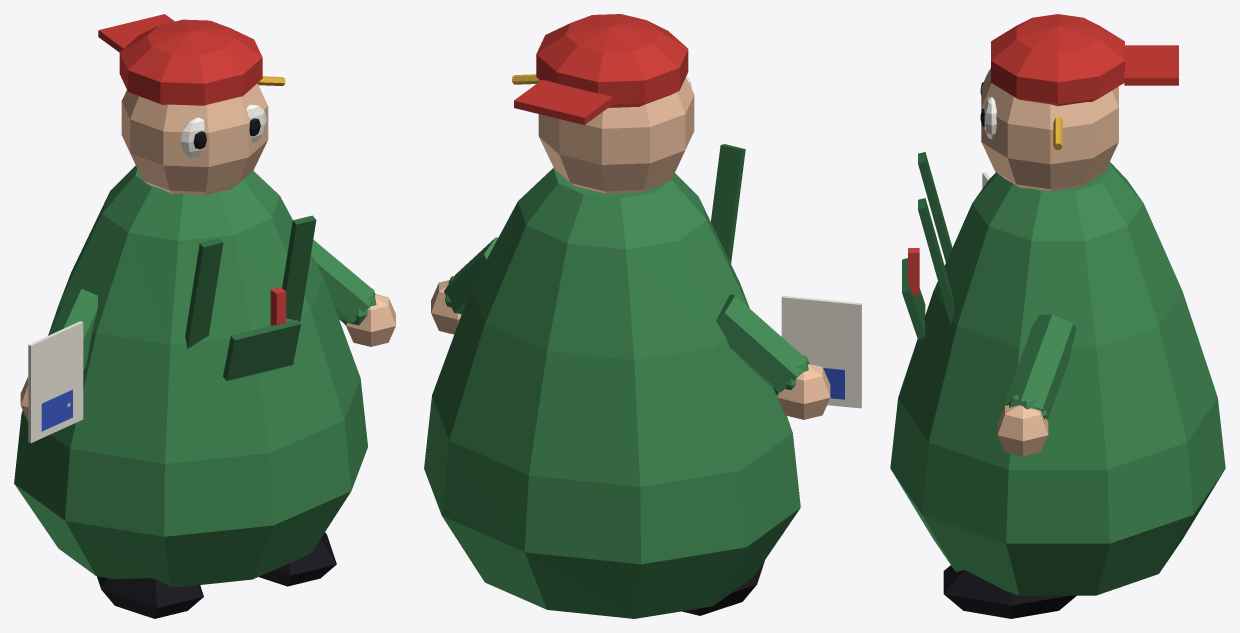
The model's file is npc_tablita.glb.
3 renders of one model, left to right at view 1: azimuth 30°, elevation 25°; view 2: azimuth 150°, elevation 25°; view 3: azimuth 270°, elevation 25°, orthographic. The views are drawn at different scales.
Parts seen in each view (by area): view 1: body_tablita_overalls, cap_tablita_cap, head_skin_rosado, manual_tablita_manual, strap_tablita_strap (×2), legs_black, arms_tablita_overalls, pocket_tablita_pocket, arms_skin_rosado, face_white, manual_tablita_manual_ink, screwdriver_tablita_handle; view 2: body_tablita_overalls, cap_tablita_cap, head_skin_rosado, manual_tablita_manual, arms_tablita_overalls, arms_skin_rosado, strap_tablita_strap, legs_black; view 3: body_tablita_overalls, cap_tablita_cap, head_skin_rosado, arms_tablita_overalls, legs_black, strap_tablita_strap (×2), arms_skin_rosado, pocket_tablita_pocket, screwdriver_tablita_handle, face_white.
Boxes of the visible parts, bbox=[...] form: body_tablita_overalls: bbox=[14, 165, 367, 586]; cap_tablita_cap: bbox=[98, 14, 262, 105]; head_skin_rosado: bbox=[121, 83, 268, 195]; manual_tablita_manual: bbox=[28, 321, 83, 442]; strap_tablita_strap (×2): bbox=[185, 215, 316, 349]; legs_black: bbox=[97, 532, 336, 618]; arms_tablita_overalls: bbox=[50, 240, 376, 370]; pocket_tablita_pocket: bbox=[223, 319, 300, 380]; arms_skin_rosado: bbox=[20, 294, 395, 421]; face_white: bbox=[180, 104, 266, 157]; manual_tablita_manual_ink: bbox=[41, 389, 72, 431]; screwdriver_tablita_handle: bbox=[270, 287, 286, 325]; body_tablita_overalls: bbox=[424, 168, 800, 618]; cap_tablita_cap: bbox=[514, 14, 688, 124]; head_skin_rosado: bbox=[538, 77, 694, 193]; manual_tablita_manual: bbox=[781, 295, 861, 408]; arms_tablita_overalls: bbox=[444, 237, 809, 394]; arms_skin_rosado: bbox=[431, 280, 830, 419]; strap_tablita_strap: bbox=[711, 144, 745, 263]; legs_black: bbox=[682, 560, 764, 615]; body_tablita_overalls: bbox=[890, 162, 1225, 595]; cap_tablita_cap: bbox=[991, 14, 1178, 105]; head_skin_rosado: bbox=[981, 68, 1118, 191]; arms_tablita_overalls: bbox=[1005, 314, 1076, 419]; legs_black: bbox=[943, 565, 1076, 618]; strap_tablita_strap (×2): bbox=[918, 152, 954, 324]; arms_skin_rosado: bbox=[997, 405, 1048, 456]; pocket_tablita_pocket: bbox=[902, 258, 925, 339]; screwdriver_tablita_handle: bbox=[908, 248, 919, 295]; face_white: bbox=[984, 70, 996, 139].
Bounding box in the file's own units: 1.16 × 1.56 × 0.86.
